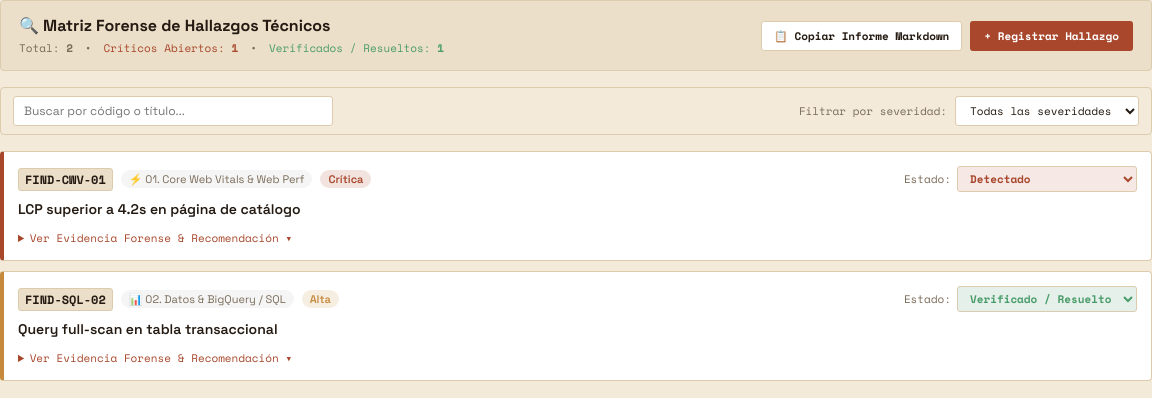
Test: ProjectAuditFindings Component › filtra hallazgos por búsqueda de texto
Type "full-scan" into the search field with placeholder "Buscar por código o título...".
click(173, 111); type("full-scan")  # box [13, 96, 333, 126]
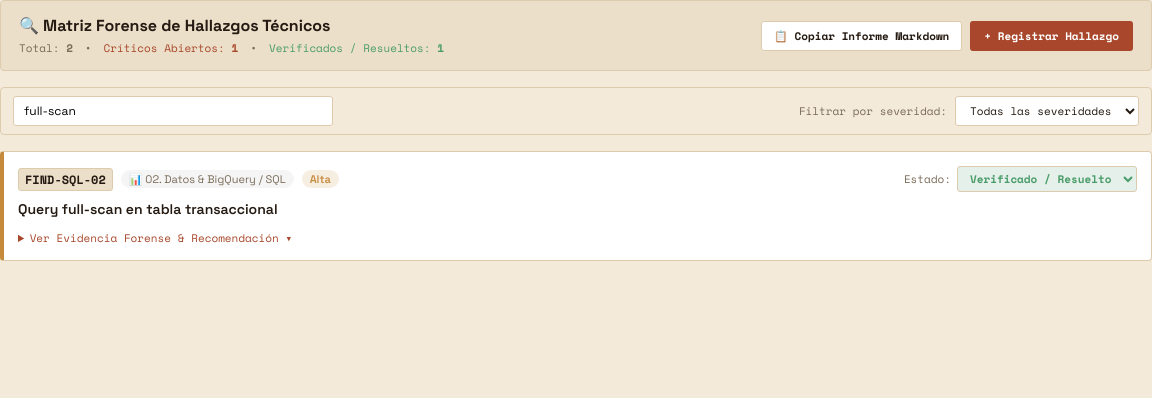
Expected: the text "FIND-SQL-02" is shown, [18, 168, 113, 190]
Expected: the text "FIND-CWV-01" is gone
